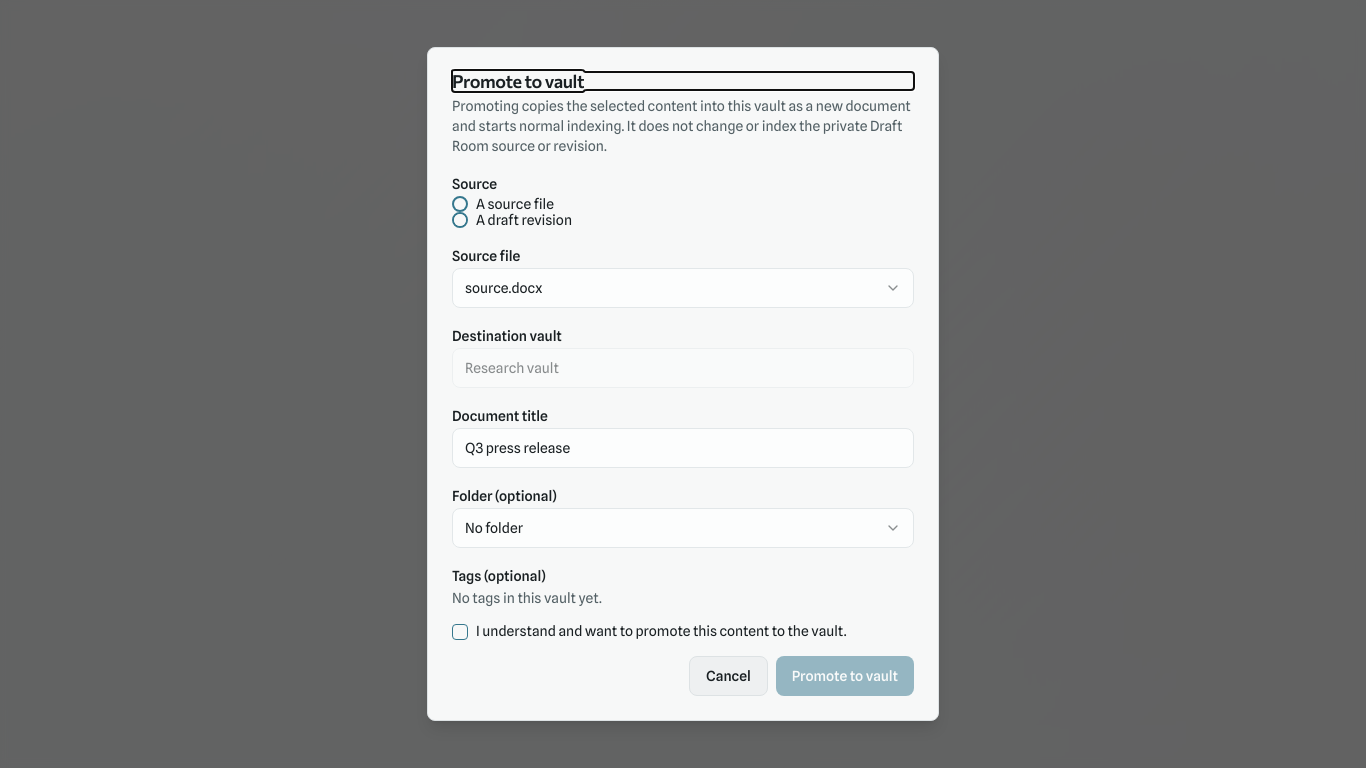
Test: DraftPromoteDialog › renders the permission explanation for a 403
The width and height of the screenshot is (1366, 768).
Click the checkbox named "understand and want to promote": (460, 632) x1=452 y1=624 x2=468 y2=640
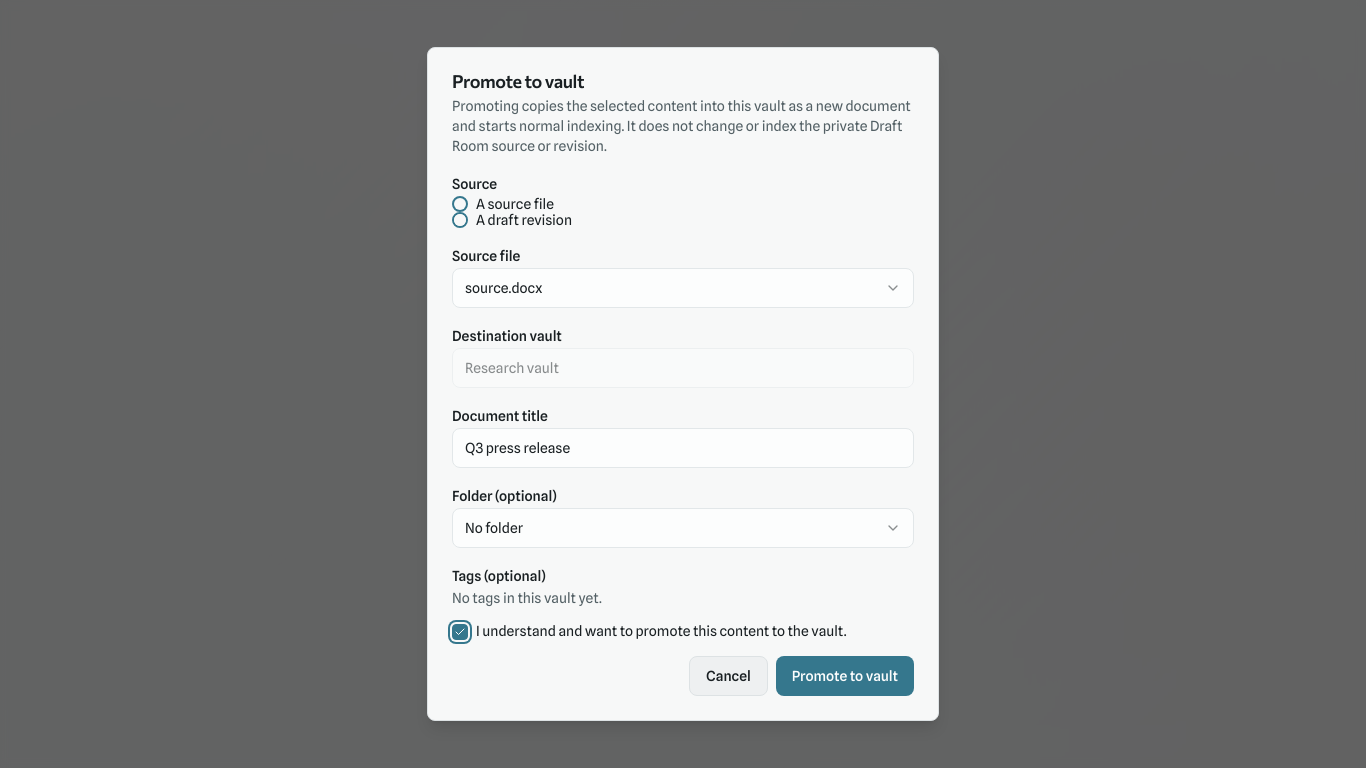
Click the button "Promote to vault": (845, 676) x1=776 y1=656 x2=914 y2=696
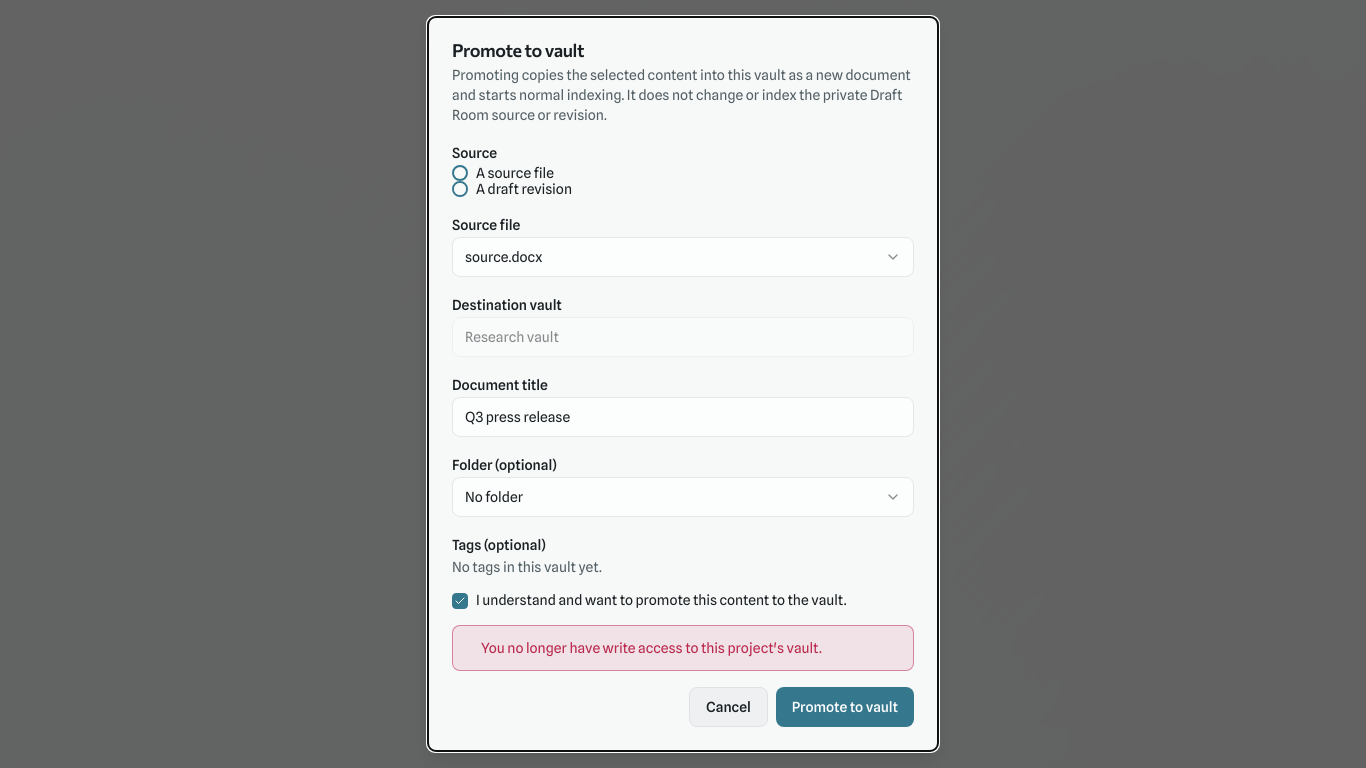
Check: the text "You no longer have write access to this project's vault." is shown, box x1=481 y1=640 x2=822 y2=656
